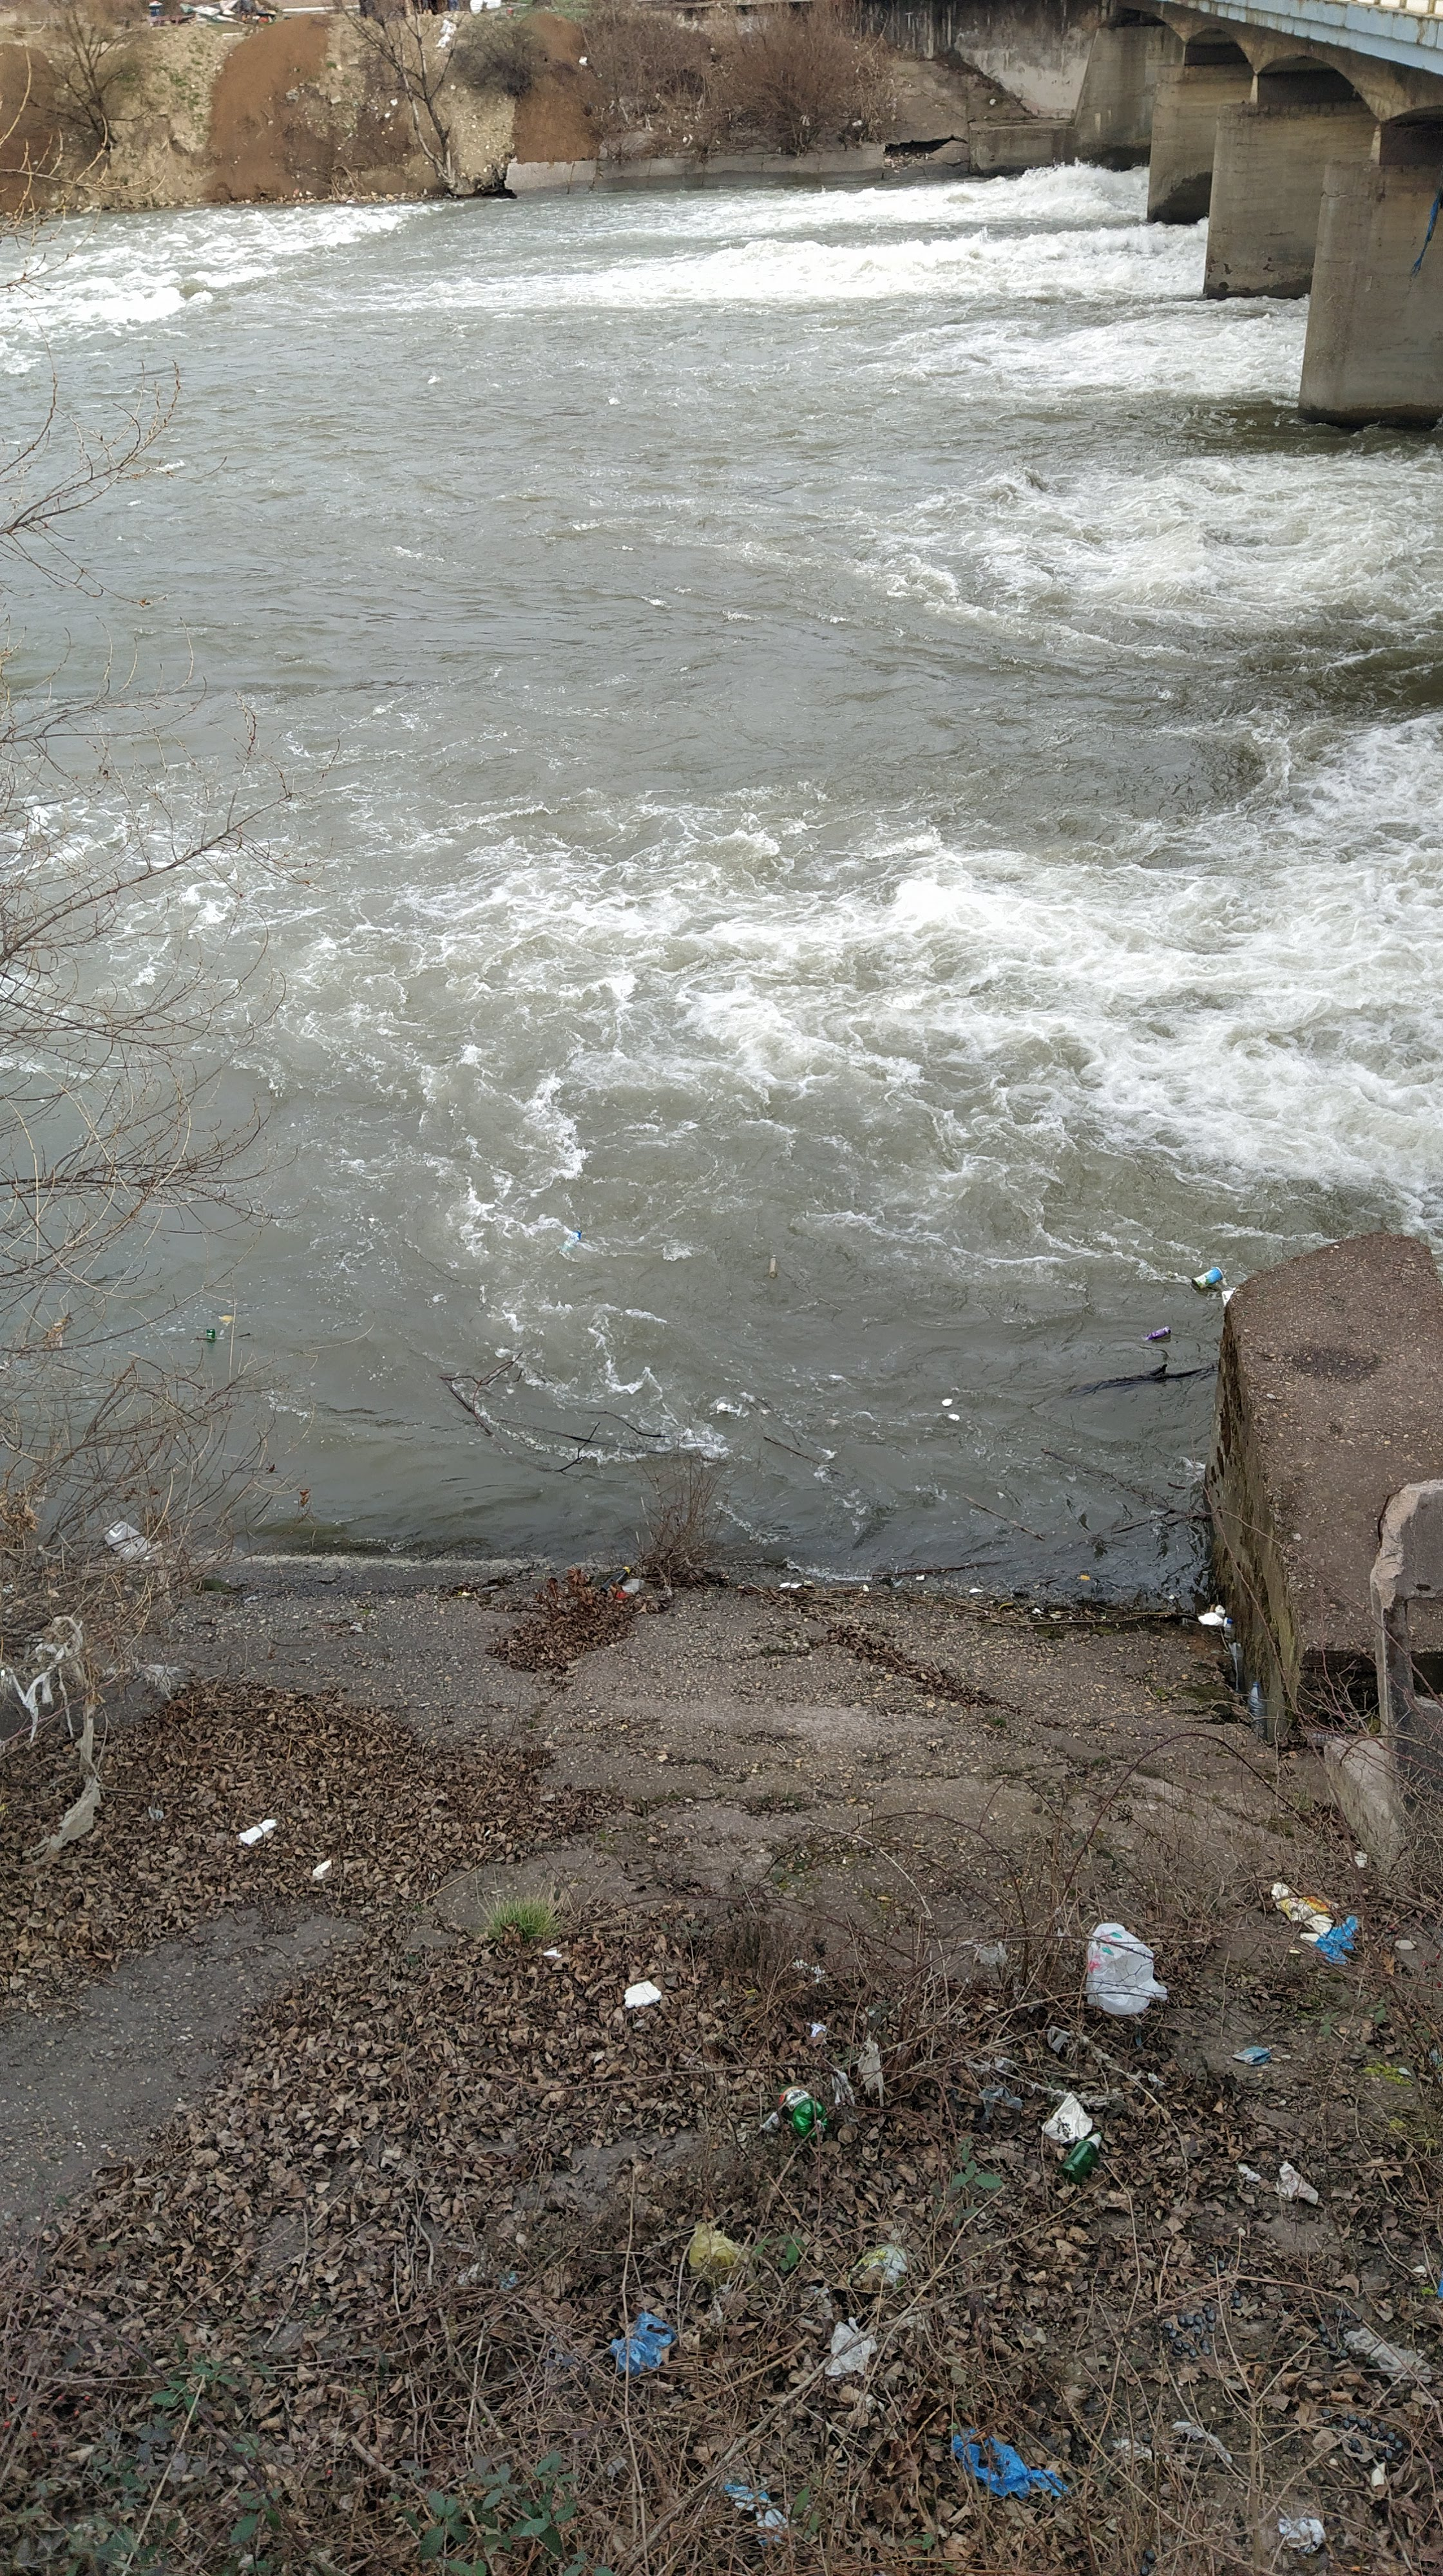Plastic Bottle: (561, 1230, 581, 1253), (1146, 1325, 1170, 1339), (768, 1254, 777, 1277), (205, 1329, 216, 1341)
